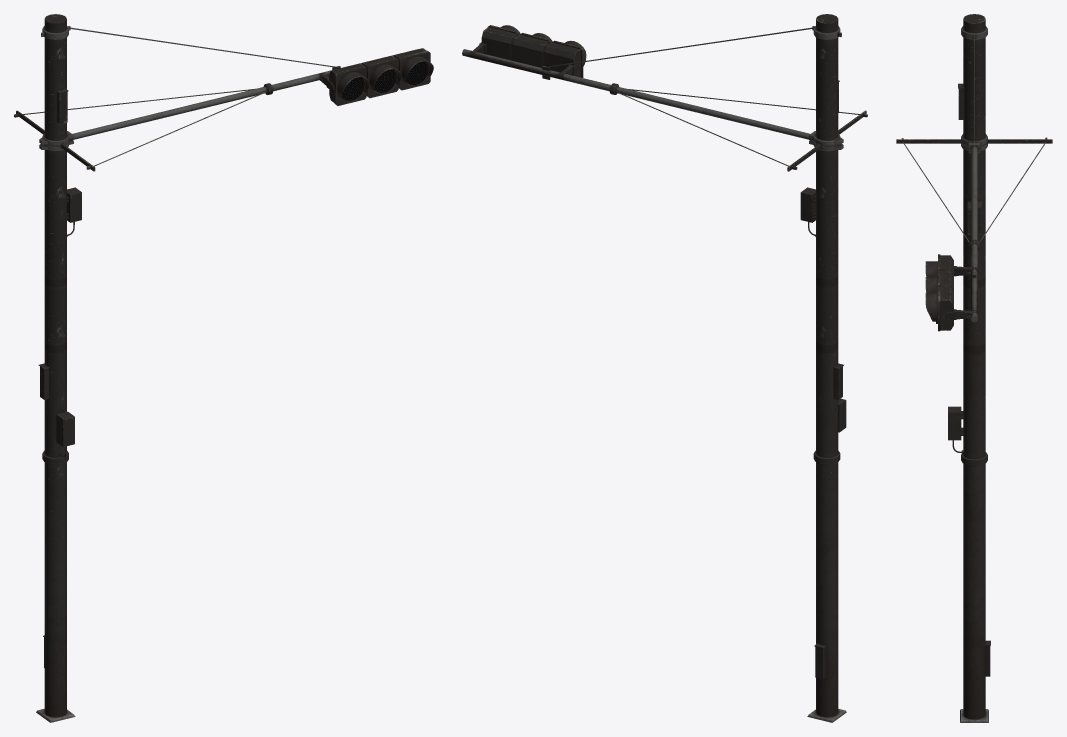
Rendered from jctTrafficLightF.fbx.
The picture shows the model from 3 angles, left to right: view 1: azimuth 30°, elevation 25°; view 2: azimuth 150°, elevation 25°; view 3: azimuth 270°, elevation 25°; orthographic projection.
Visible parts, largest first — view 1: jctTrafficLightF; view 2: jctTrafficLightF; view 3: jctTrafficLightF.
Part boxes in pixels (bbox=[...]): jctTrafficLightF: bbox=[14, 14, 433, 722]; jctTrafficLightF: bbox=[462, 14, 867, 722]; jctTrafficLightF: bbox=[896, 14, 1052, 722].
Bounding box in the file's own units: 428 × 752 × 153.
